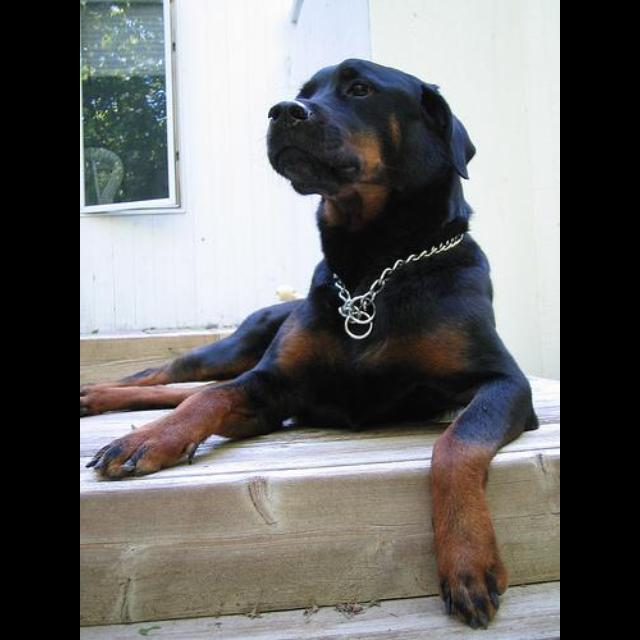rottweiler: (82, 58, 541, 631)
